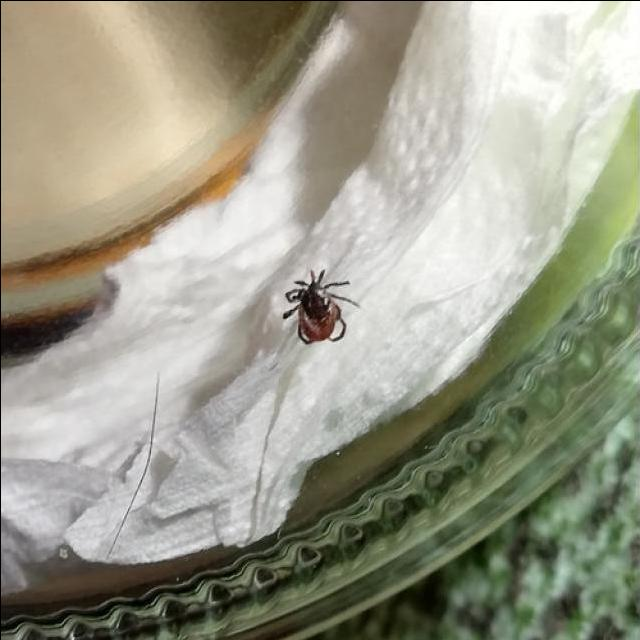Ixodes Ricinus-F: (282, 266, 361, 347)
